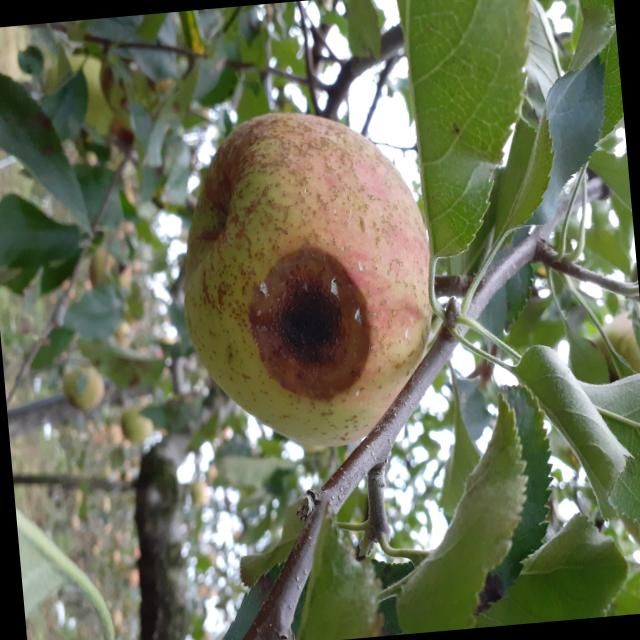rotten: (163, 95, 453, 470)
